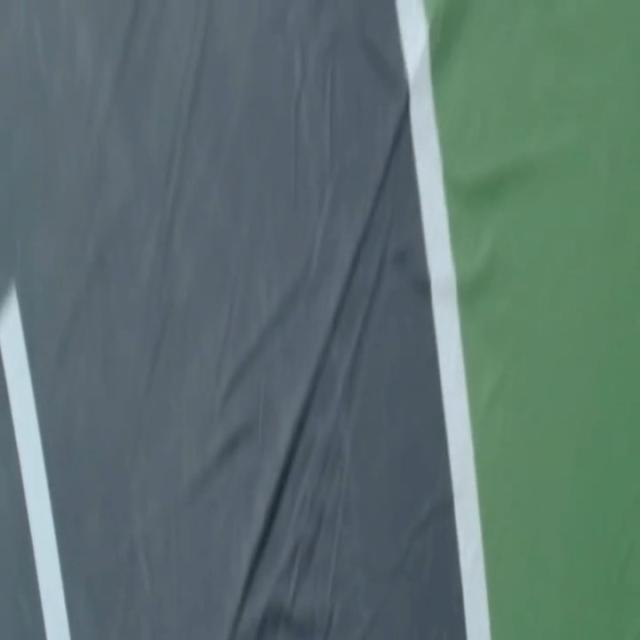center: (0, 284, 70, 639)
right: (397, 0, 490, 639)
